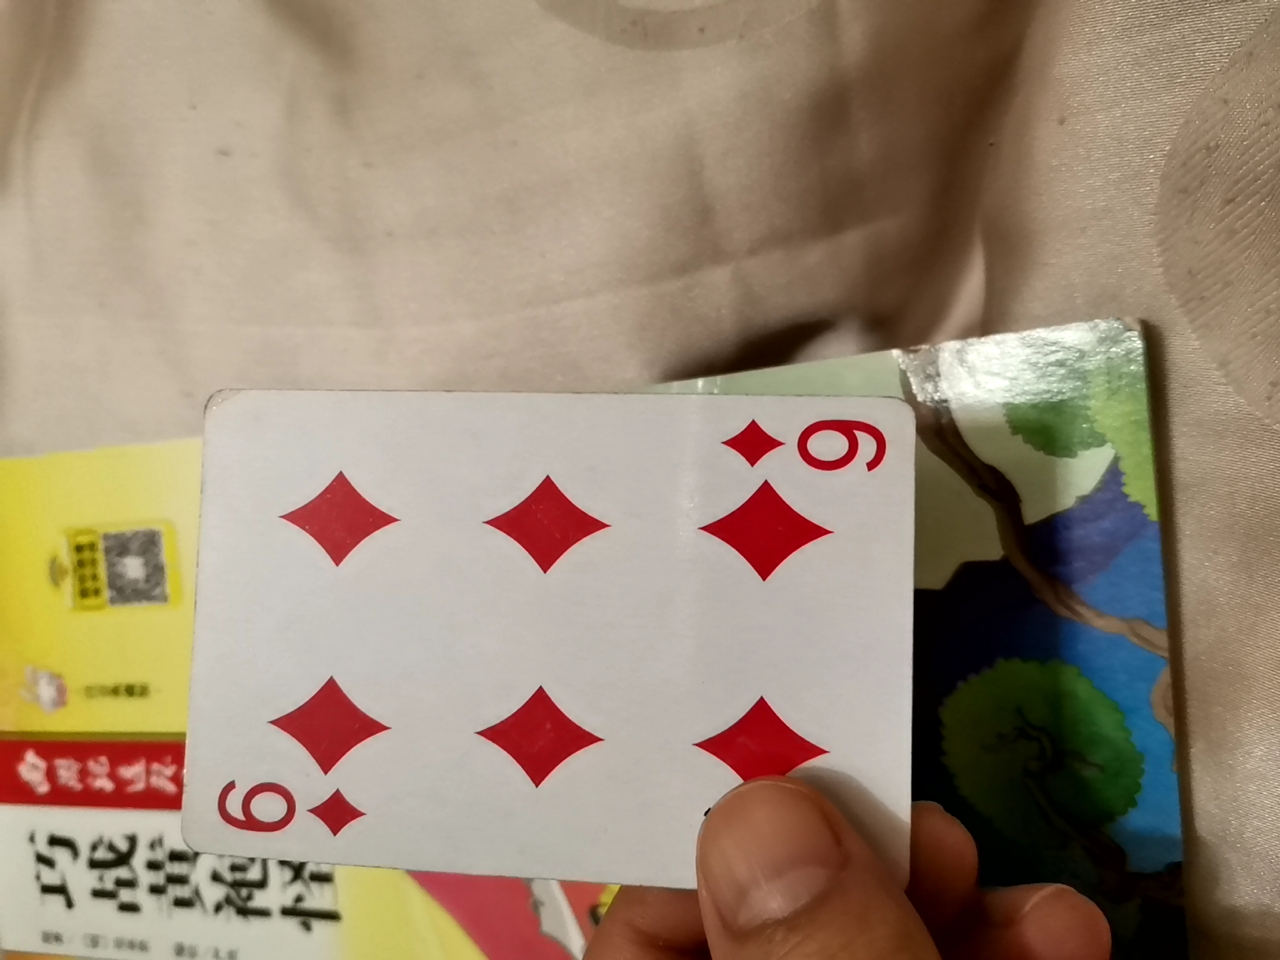fk 6: (189, 382, 926, 893)
